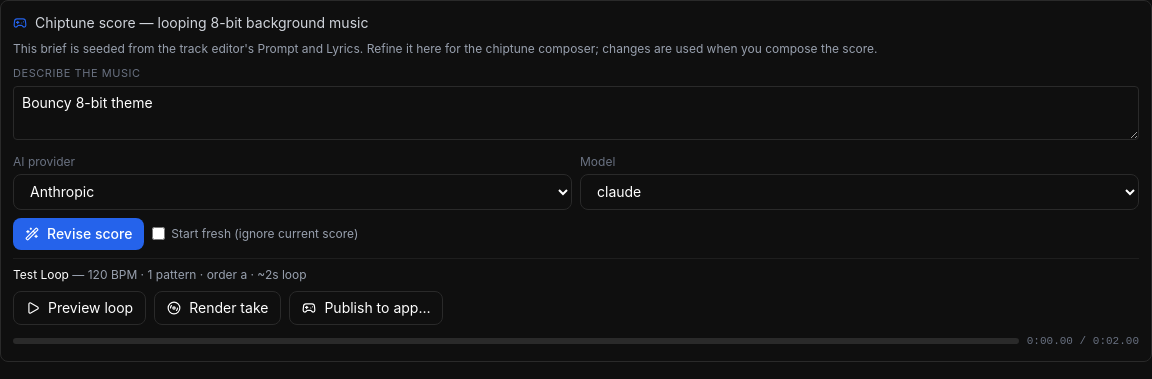
Test: ChiptunePanel › preview progress bar › clamps the transport lead-in (negative position) to the start of the bar
This screenshot has width=1152, height=379.
Click the button "Preview loop": (80, 308) 13,290 -> 146,324
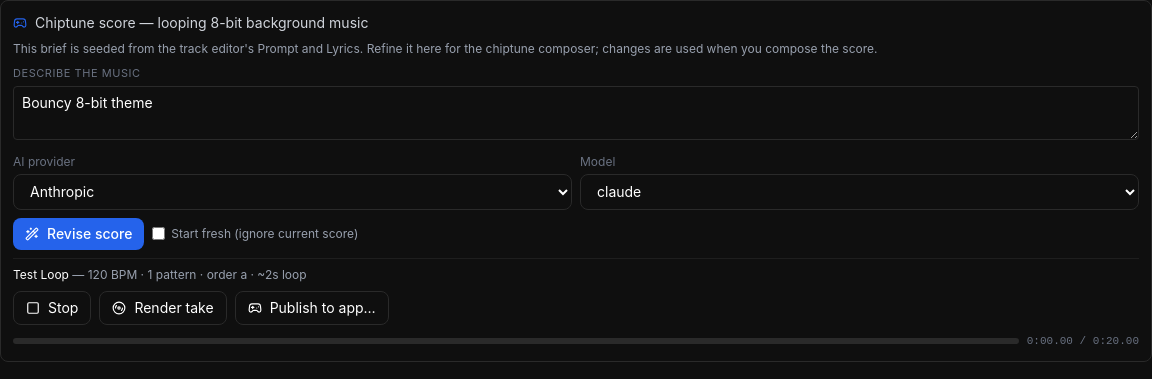
Result: the button "Stop" is shown at 13,290 -> 91,324
